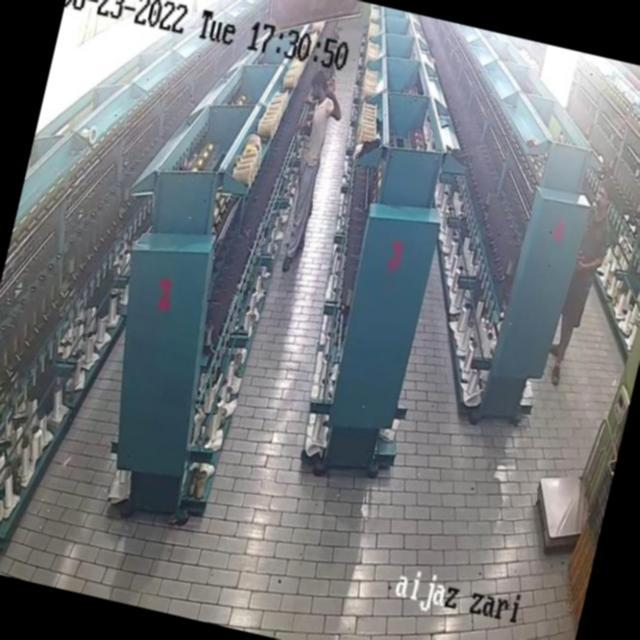person: (268, 68, 351, 270), (548, 172, 622, 389)
